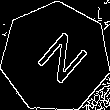N_SW: (24, 25, 87, 90)
